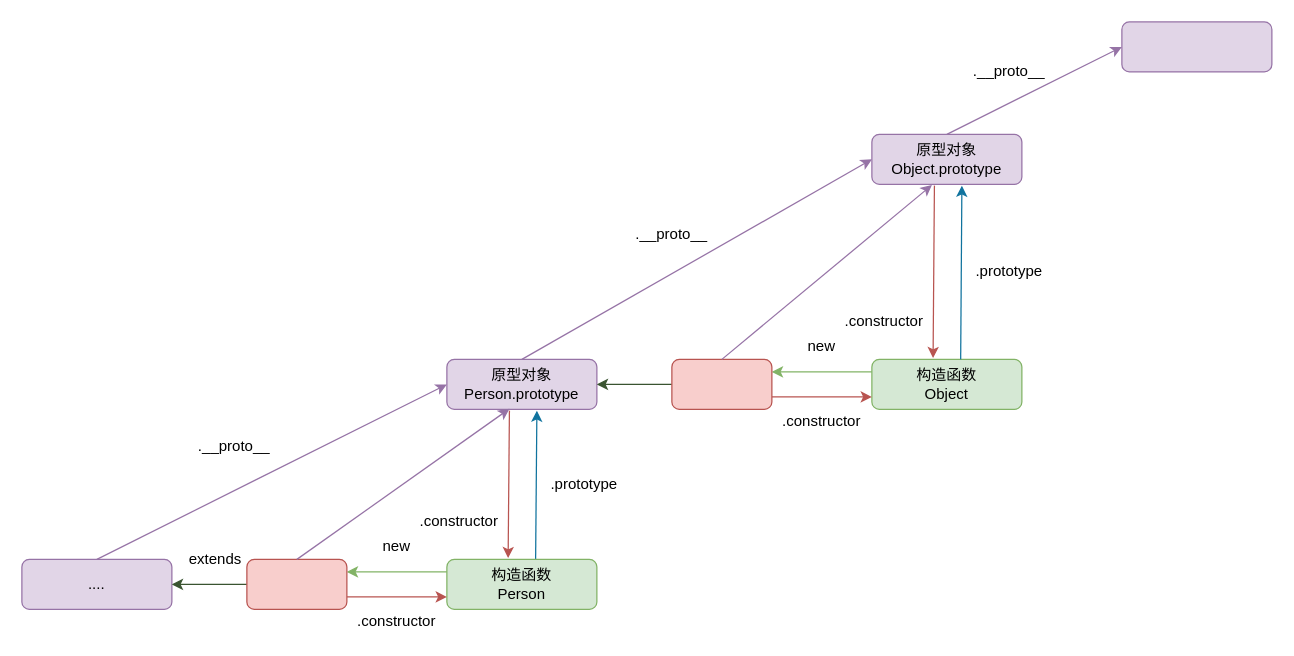
Some shapes in this 1294 by 656 pixel diagram are drawn without their labels. Here are the shapes that lost their labels. From the top down, the centre of each, then its label:
(x=1196, y=46): null
(x=721, y=383): 实例对象 o
(x=296, y=583): 实例对象 p
